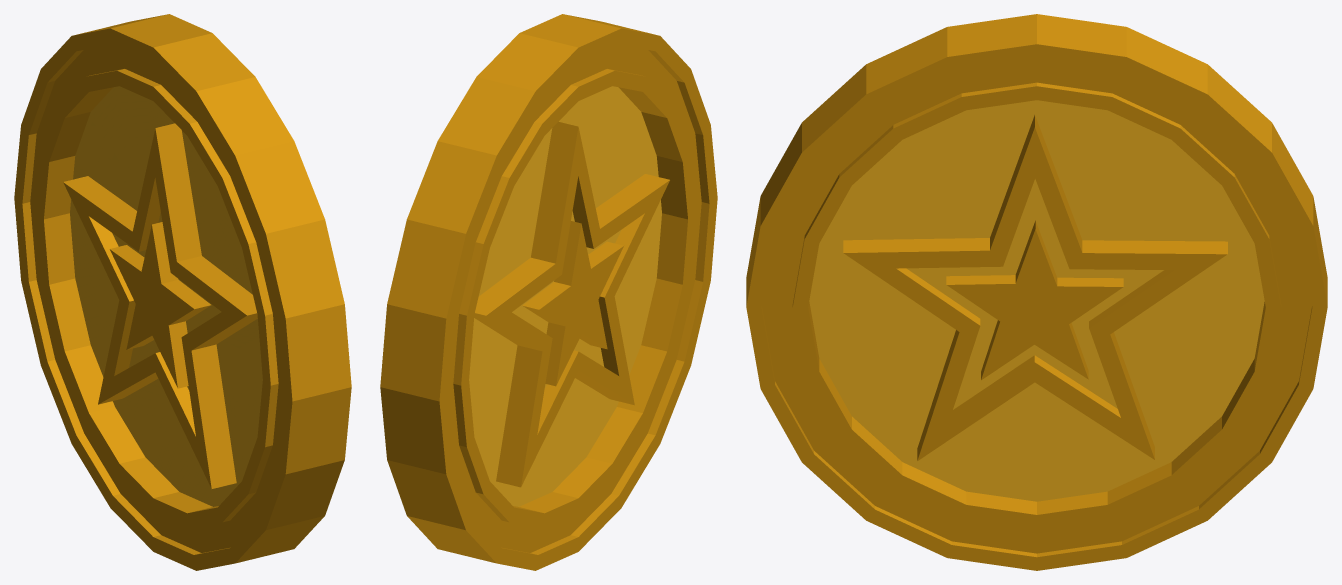
The model's file is Coin.fbx.
3 views of the same model, side by side, from view 1: azimuth 30°, elevation 25°; view 2: azimuth 150°, elevation 25°; view 3: azimuth 270°, elevation 25° (orthographic). The views are drawn at different scales.
Parts seen in each view (by area): view 1: Moneda; view 2: Moneda; view 3: Moneda.
Part boxes in pixels (x1,y1,x2,y2): Moneda: (14, 14, 351, 570); Moneda: (380, 14, 717, 570); Moneda: (746, 14, 1327, 570).
Bounding box in the file's own units: 26.44 × 200 × 200.
